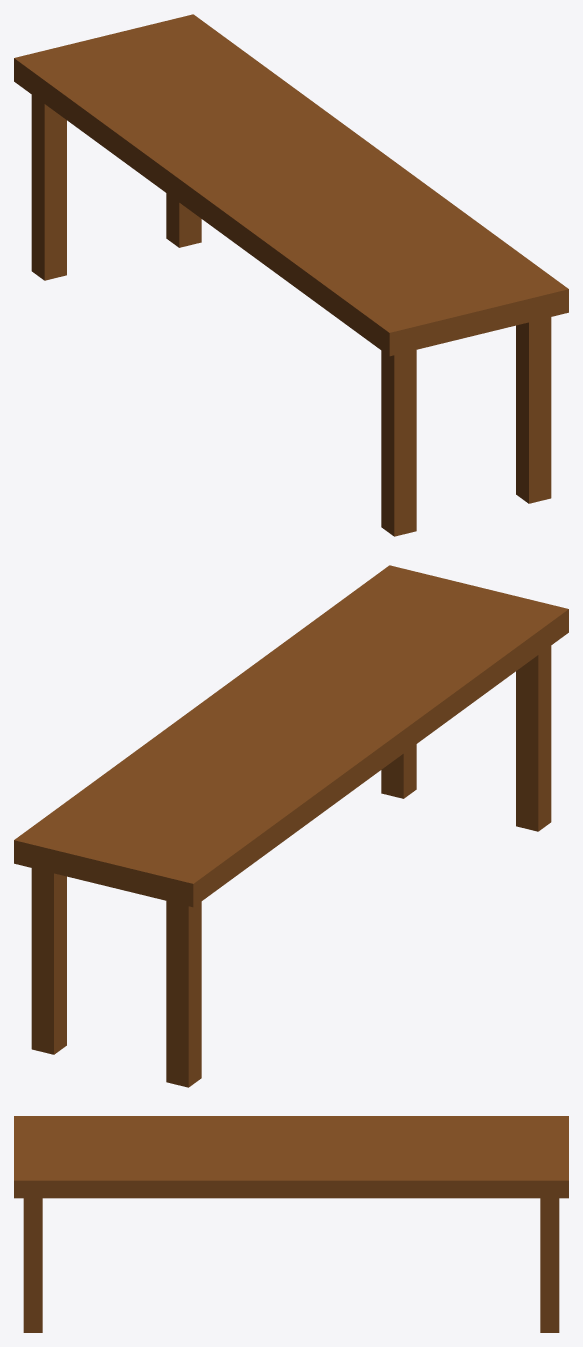
File: Food_Shop-6.obj
The picture shows the model from 3 angles, top to bottom: view 1: azimuth 30°, elevation 25°; view 2: azimuth 150°, elevation 25°; view 3: azimuth 270°, elevation 25°; orthographic projection. The views are drawn at different scales.
Size of the model in its own units: 1.6 by 1.8 by 5.8.
Materials: 1 (1 with a texture image).
